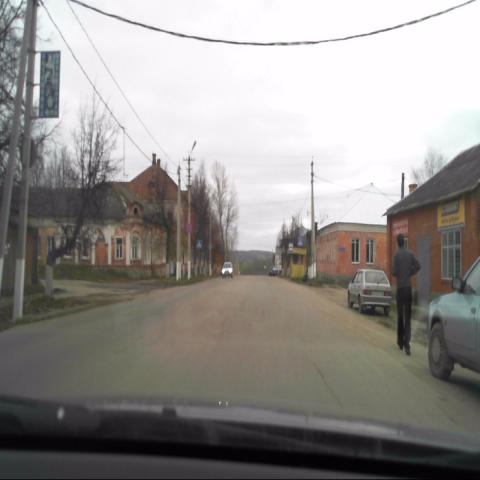3_27: (185, 223, 192, 234)
5_19_1: (195, 238, 203, 251)
